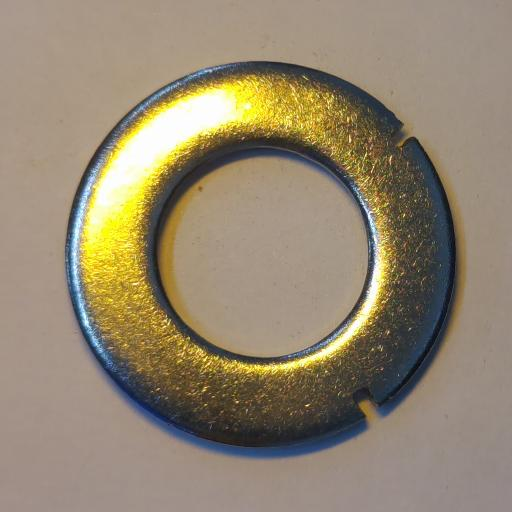burr: (353, 387, 379, 417), (389, 123, 415, 149)
